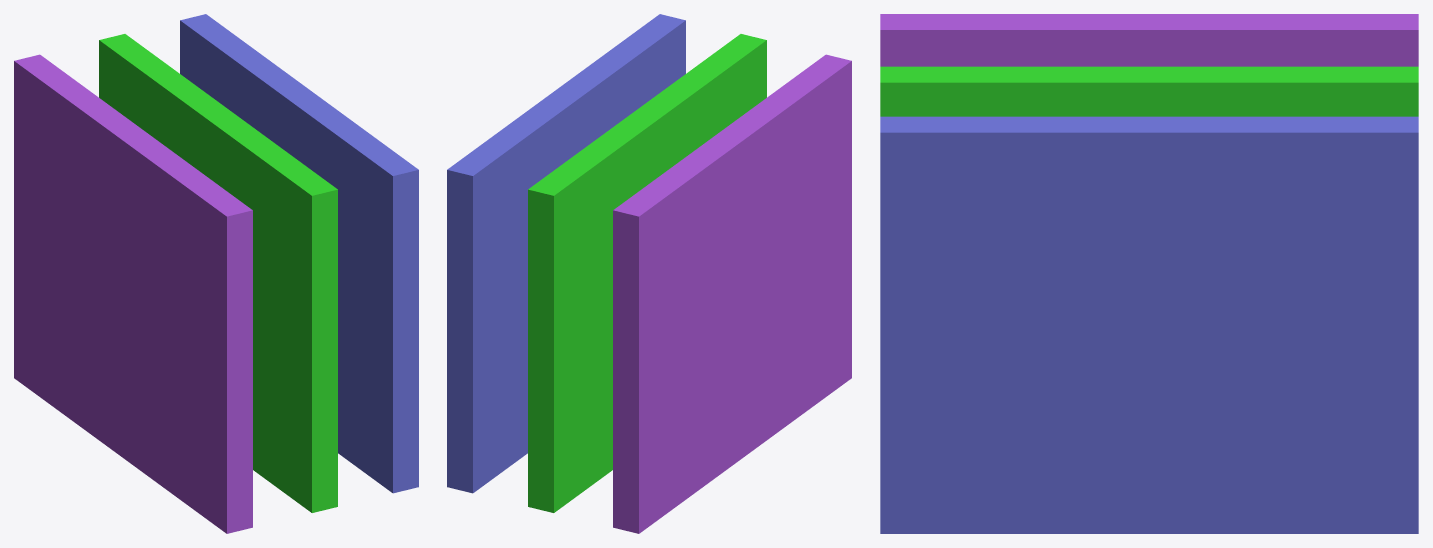
Rendered from Board.glb.
3 renders of one model, left to right at view 1: azimuth 30°, elevation 25°; view 2: azimuth 150°, elevation 25°; view 3: azimuth 270°, elevation 25°, orthographic. The views are drawn at different scales.
Parts seen in each view (by area): view 1: Cube, Cube.002, Cube.001; view 2: Cube, Cube.002, Cube.001; view 3: Cube.001, Cube, Cube.002.
Boxes of the visible parts, x1,y1,x2,y2 form: Cube: [14, 54, 252, 533]; Cube.002: [99, 34, 337, 512]; Cube.001: [180, 14, 418, 493]; Cube: [613, 54, 851, 533]; Cube.002: [528, 34, 766, 512]; Cube.001: [447, 14, 685, 493]; Cube.001: [880, 116, 1418, 533]; Cube: [880, 14, 1418, 66]; Cube.002: [880, 66, 1418, 116].
Size of the model in its own units: 14.76 by 23.31 by 28.34.
